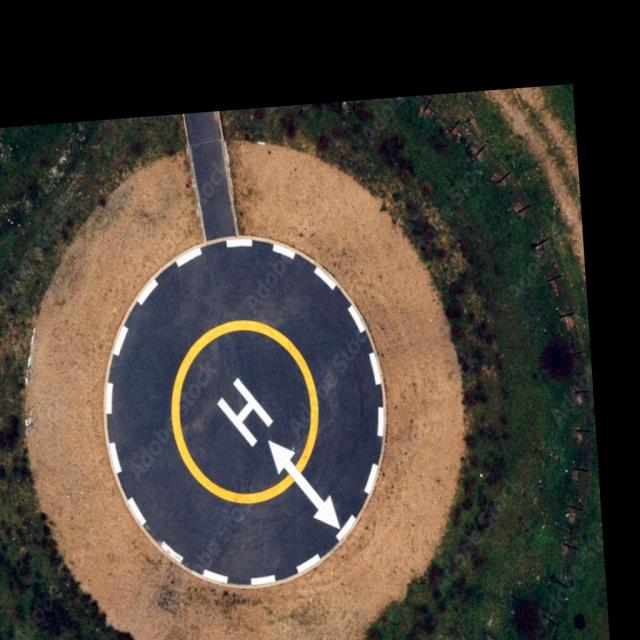helipad: (166, 316, 322, 506)
